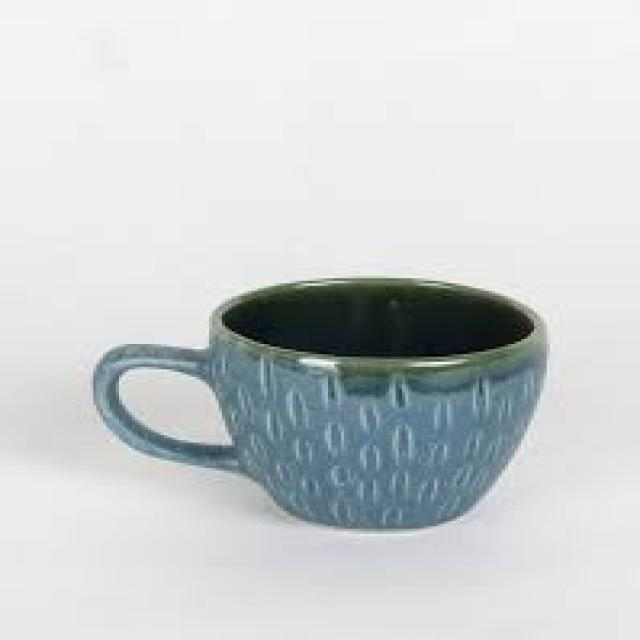taza: (84, 266, 556, 545)
